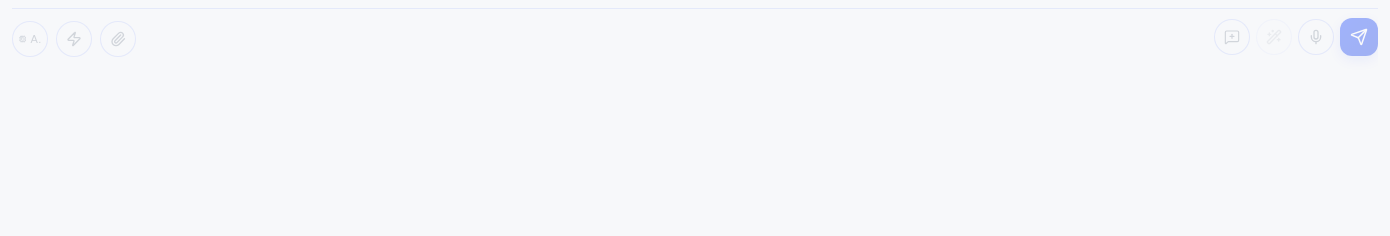
Scenario: ChatInputActionsRow compact pickers › uses a popover instead of a full-width drawer on narrow desktop
Click the button with class "lucide-cpu": {"x": 30, "y": 39} [12, 21, 48, 57]
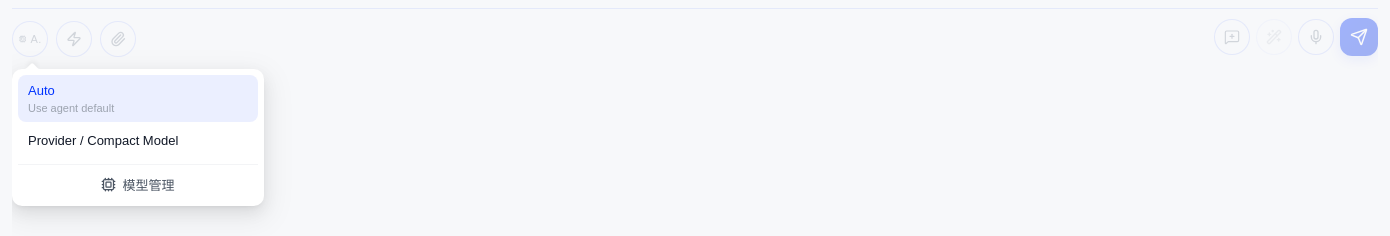
Now the element showing "Auto Use agent default Provider / Compact Model 模型管理" is shown, box [12, 69, 264, 206]
